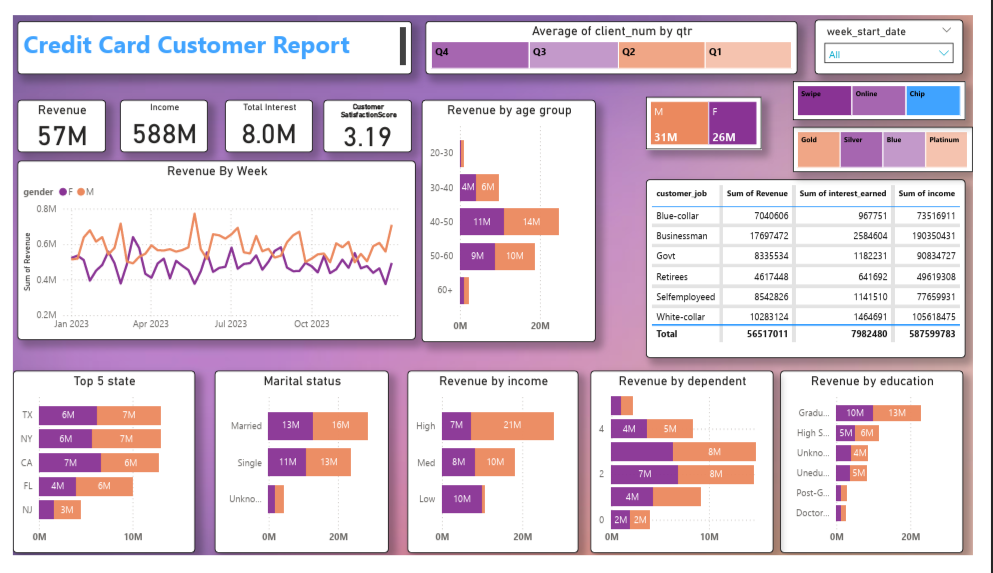

Layout of this report page (visuals, bound fields, positions):
{"tool":"powerbi","page":{"name":"CC_Customer","canvas":[1280,720],"ordinal":2},"visuals":[{"type":"textbox","box":[5.9,7.9,526.1,70.7],"z":0},{"type":"barChart","title":"Revenue by income","fields":{"Y":["Sum(public cc_detail.Revenue)"],"Category":["public cust_detail.Income_Group"],"Series":["public cust_detail.gender"]},"box":[526.1,474.4,227.7,242.1],"z":1000},{"type":"tableEx","title":"Revenue By Week","fields":{"Values":["public cust_detail.customer_job","Sum(public cc_detail.Revenue)","Sum(public cc_detail.interest_earned)","Sum(public cust_detail.income)"]},"box":[844.2,218.6,426,238.9],"z":2000},{"type":"card","title":"Revenue","fields":{"Values":["Sum(public cc_detail.Revenue)"]},"box":[5.9,113.2,117.8,70],"z":3000},{"type":"card","title":"Income","fields":{"Values":["Sum(public cust_detail.income)"]},"box":[142.7,113.2,117.8,70],"z":4000},{"type":"card","title":"Total Interest","fields":{"Values":["Sum(public cc_detail.interest_earned)"]},"box":[282.7,113.2,117.8,70],"z":5000},{"type":"card","title":"Customer SatisfactionScore","fields":{"Values":["Avg(public cust_detail.cust_satisfaction_score)"]},"box":[414.2,113.2,117.8,70],"z":6000},{"type":"slicer","fields":{"Values":["public cc_detail.week_start_date"]},"box":[1069.3,5.9,197.6,72.6],"z":7000},{"type":"treemap","fields":{"Group":["public cc_detail.qtr"],"Values":["Avg(public cust_detail.client_num)"]},"box":[550.3,7.9,496,70.7],"z":8000},{"type":"treemap","fields":{"Values":["Avg(public cust_detail.client_num)"],"Group":["public cc_detail.card_category"]},"box":[1040.5,148.5,239.5,60.9],"z":9000},{"type":"treemap","fields":{"Values":["Avg(public cust_detail.client_num)"],"Group":["public cc_detail.use_chip"]},"box":[1040.5,88.3,229.7,51.7],"z":10000},{"type":"lineChart","title":"Revenue By Week","fields":{"Y":["Sum(public cc_detail.Revenue)"],"Series":["public cust_detail.gender"],"Category":["public cc_detail.week_start_date.Variation.Date Hierarchy.Year","public cc_detail.week_start_date.Variation.Date Hierarchy.Month","public cc_detail.week_start_date.Variation.Date Hierarchy.Day"]},"box":[5.9,194.4,531.4,238.9],"z":11000},{"type":"treemap","fields":{"Group":["public cust_detail.gender"],"Values":["Sum(public cc_detail.Revenue)"]},"box":[844.2,108.6,153.8,70.7],"z":12000},{"type":"barChart","title":"Revenue by age group","fields":{"Category":["public cust_detail.Age_Group"],"Y":["Sum(public cc_detail.Revenue)"],"Series":["public cust_detail.gender"]},"box":[545.1,113.2,232.3,323.3],"z":13000},{"type":"barChart","title":"Revenue by education","fields":{"Y":["Sum(public cc_detail.Revenue)"],"Category":["public cust_detail.education_level"],"Series":["public cust_detail.gender"]},"box":[1023.5,474.4,243.4,242.1],"z":14000},{"type":"barChart","title":"Top 5 state","fields":{"Y":["Sum(public cc_detail.Revenue)"],"Category":["public cust_detail.state_cd"],"Series":["public cust_detail.gender"]},"box":[0,474.4,243.4,242.1],"z":15000},{"type":"barChart","title":"Revenue by dependent","fields":{"Y":["Sum(public cc_detail.Revenue)"],"Category":["public cust_detail.dependent_count"],"Series":["public cust_detail.gender"]},"box":[770.2,474.4,243.4,242.1],"z":16000},{"type":"barChart","title":"Marital status  ","fields":{"Y":["Sum(public cc_detail.Revenue)"],"Category":["public cust_detail.marital_status"],"Series":["public cust_detail.gender"]},"box":[269,474.4,232.3,242.1],"z":17000}]}

Visuals, with their boxes in screenshot pixels (x1, y1, x2, y2), scaled from the page's 1280x720 canvas onto the 993x573 screenshot:
textbox: rect(5, 6, 413, 63)
"Revenue by income" barChart: rect(408, 378, 585, 570)
"Revenue By Week" tableEx: rect(655, 174, 985, 364)
"Revenue" card: rect(5, 90, 96, 146)
"Income" card: rect(111, 90, 202, 146)
"Total Interest" card: rect(219, 90, 311, 146)
"Customer SatisfactionScore" card: rect(321, 90, 413, 146)
slicer - public cc_detail.week_start_date: rect(830, 5, 983, 62)
treemap - public cc_detail.qtr x Avg(public cust_detail.client_num): rect(427, 6, 812, 63)
treemap - Avg(public cust_detail.client_num) x public cc_detail.card_category: rect(807, 118, 992, 167)
treemap - Avg(public cust_detail.client_num) x public cc_detail.use_chip: rect(807, 70, 985, 111)
"Revenue By Week" lineChart: rect(5, 155, 417, 345)
treemap - public cust_detail.gender x Sum(public cc_detail.Revenue): rect(655, 86, 774, 143)
"Revenue by age group" barChart: rect(423, 90, 603, 347)
"Revenue by education" barChart: rect(794, 378, 983, 570)
"Top 5 state" barChart: rect(0, 378, 189, 570)
"Revenue by dependent" barChart: rect(598, 378, 786, 570)
"Marital status  " barChart: rect(209, 378, 389, 570)
